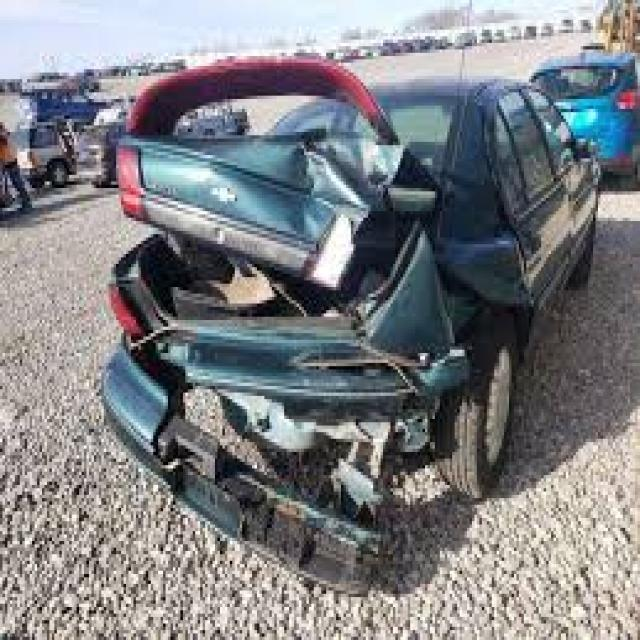damaged-trunk: (127, 137, 416, 333)
